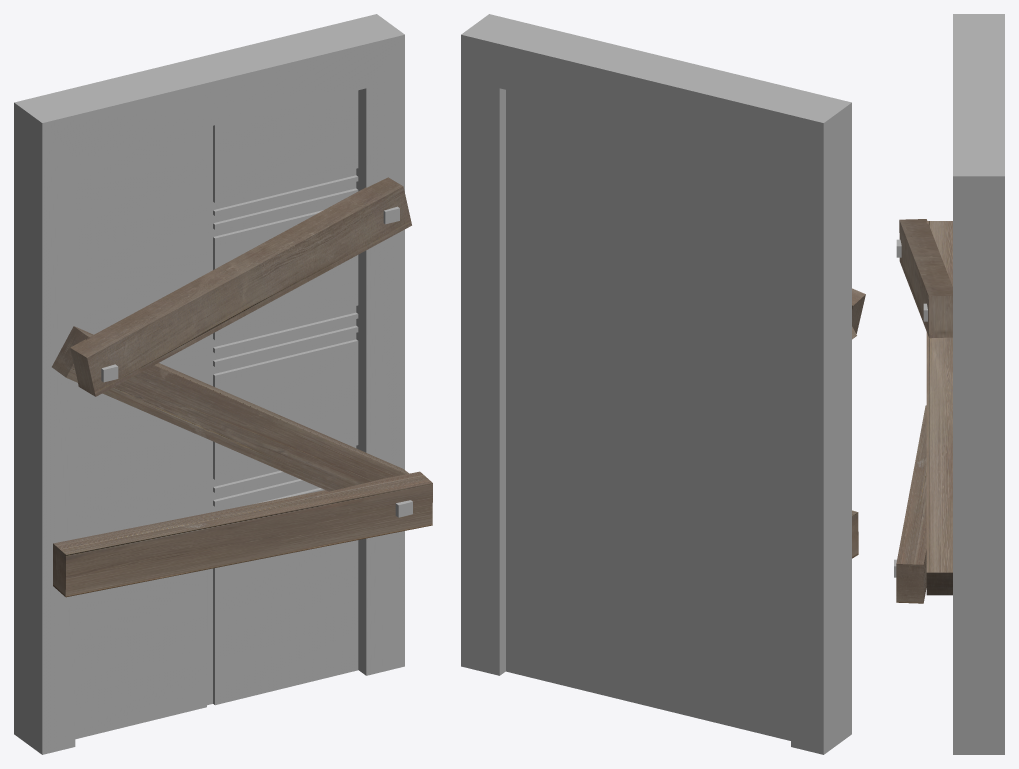
File: ClosedDoor.fbx
3 renders of one model, left to right at view 1: azimuth 30°, elevation 25°; view 2: azimuth 150°, elevation 25°; view 3: azimuth 270°, elevation 25°, orthographic. The views are drawn at different scales.
Visible parts, largest first — view 1: pCube18, pCube4, pCube21, pCube19, pCube20; view 2: pCube18, pCube4; view 3: pCube4, pCube20, pCube19, pCube21.
Part boxes in pixels (<box>): pCube18: <box>75,90,358,739</box>; pCube4: <box>14,14,404,754</box>; pCube21: <box>53,471,432,597</box>; pCube19: <box>70,177,411,396</box>; pCube20: <box>52,326,409,491</box>; pCube18: <box>506,90,790,740</box>; pCube4: <box>461,14,851,754</box>; pCube4: <box>953,14,1004,754</box>; pCube20: <box>926,221,952,595</box>; pCube19: <box>899,219,952,338</box>; pCube21: <box>896,405,926,603</box>.
Bounding box in the file's own units: 1.98 × 3.3 × 0.5728.
